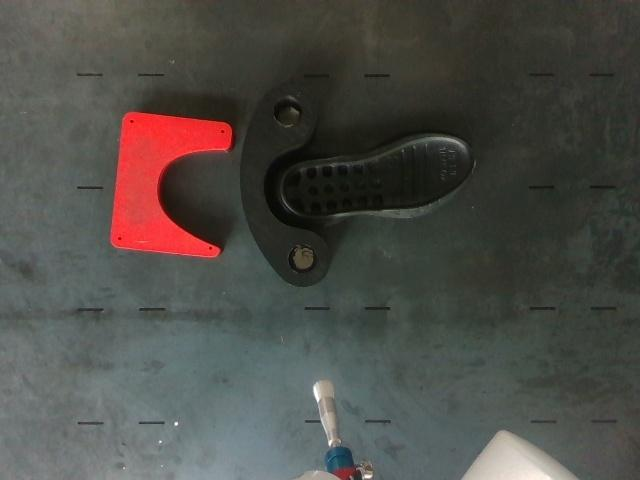shoes: (282, 137, 474, 215)
